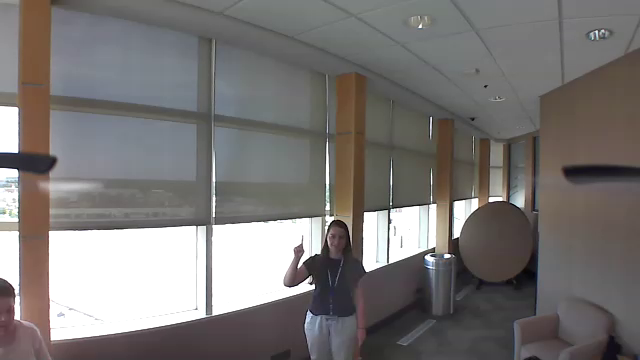up: (292, 233, 308, 260)
